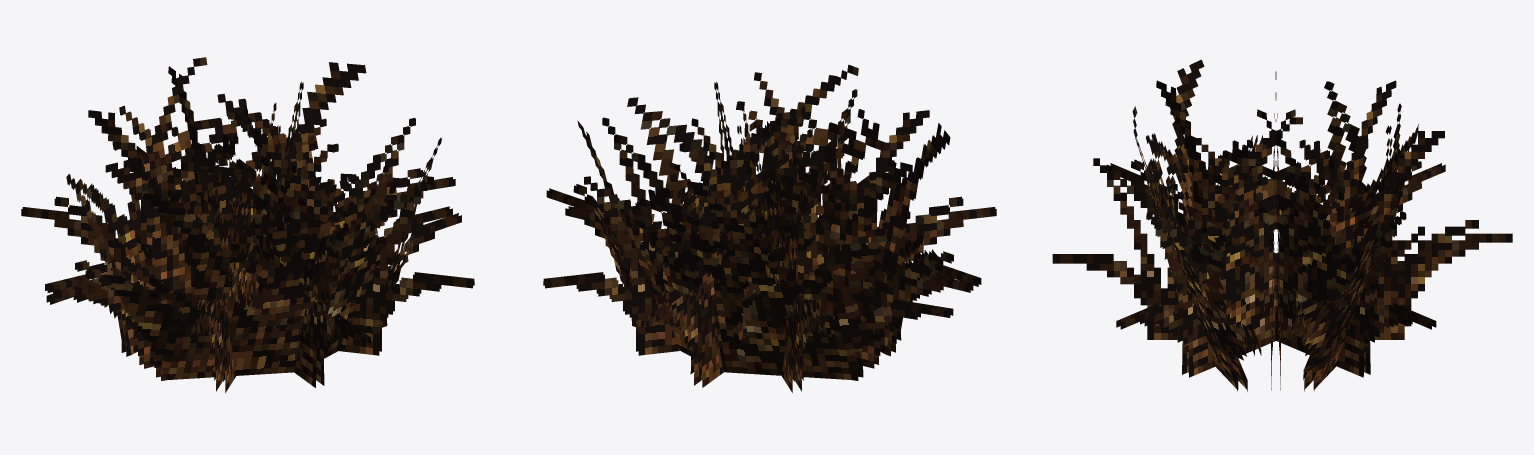
The model's file is grass_bush_winter.glb.
3 views of the same model, side by side, from view 1: azimuth 30°, elevation 25°; view 2: azimuth 150°, elevation 25°; view 3: azimuth 270°, elevation 25° (orthographic).
Visible parts, largest first — view 1: grass_bush; view 2: grass_bush; view 3: grass_bush.
Boxes of the visible parts, left/top/right/bottom form: grass_bush: left=21, top=57, right=474, bottom=392; grass_bush: left=543, top=64, right=996, bottom=392; grass_bush: left=1052, top=60, right=1512, bottom=391.
Bounding box in the file's own units: 0.8016 × 0.4 × 0.8.
Materials: 1 (1 with a texture image).
